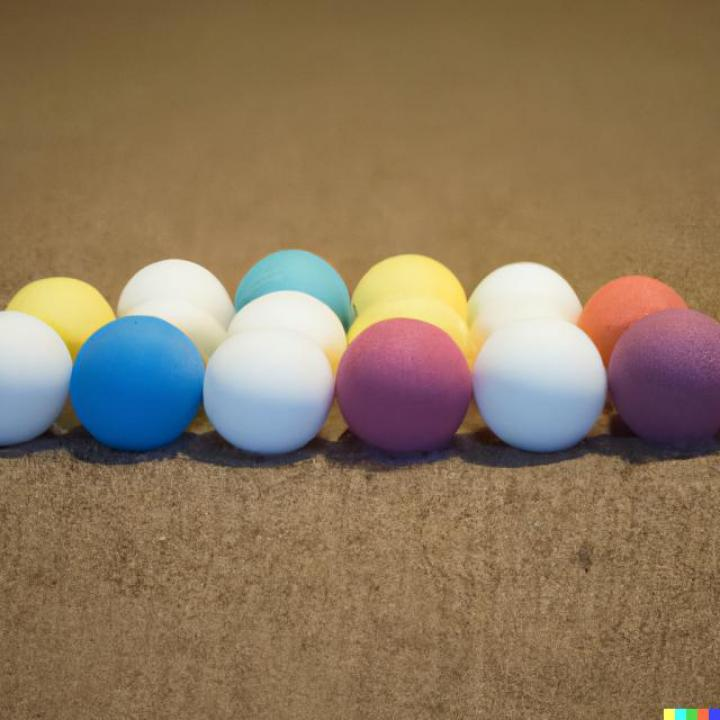white: (472, 318, 608, 454), (206, 329, 336, 454), (0, 314, 73, 450)
